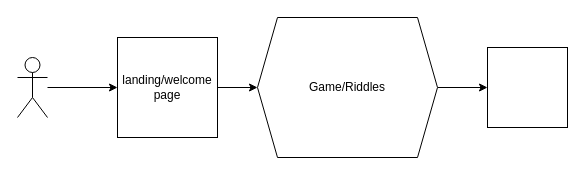
This 585x175 diagram has some shape labels left out. The centre of each missing label's shape, as x and y in pixels:
"Score/High Scores" goes at point (527, 87).
"User" goes at point (32, 87).
